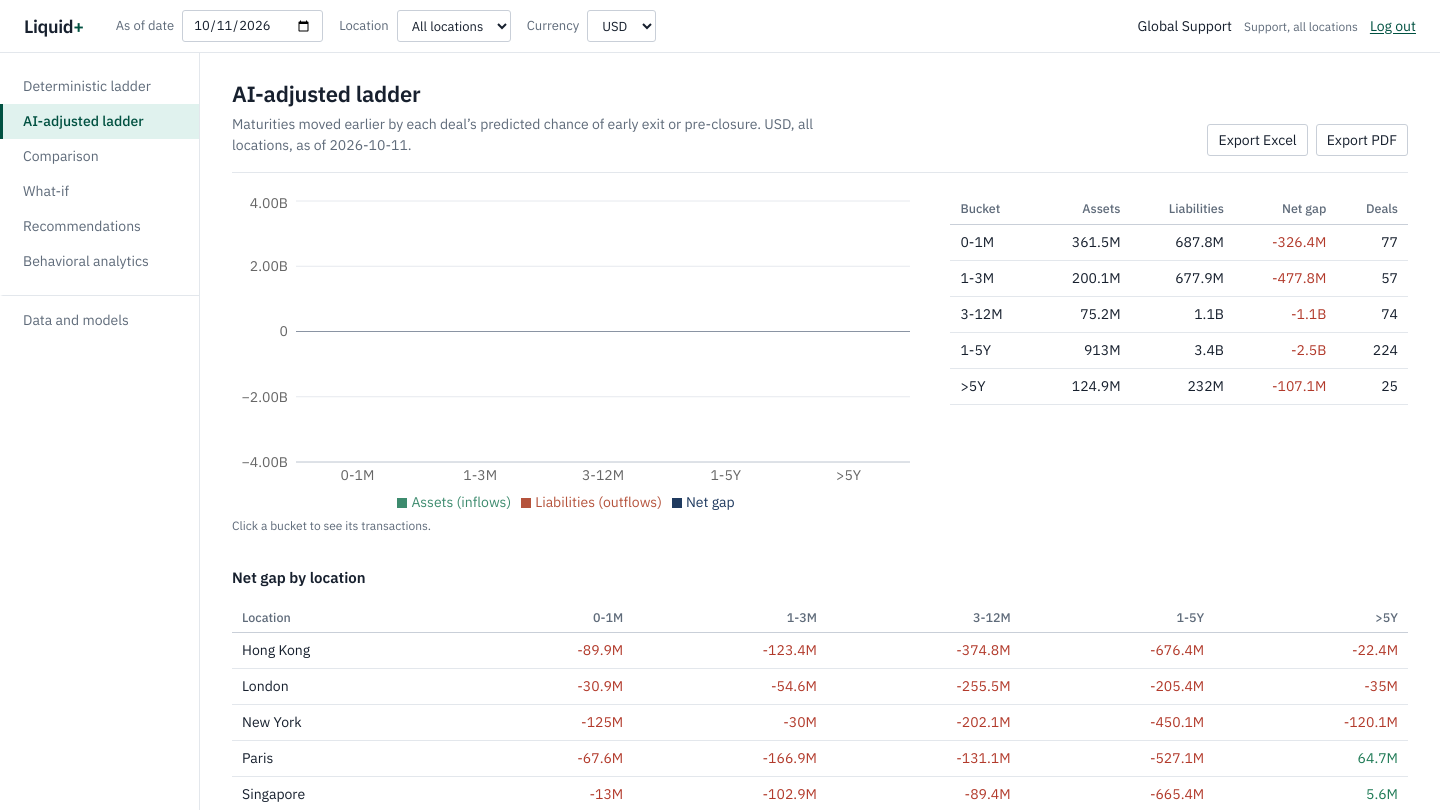
it: AI ladder opens the prediction rationale panel
The width and height of the screenshot is (1440, 810).
Click the row "1-5Y 913M 3.4B -2.5B 224". click: [1179, 350]
box: [950,332,1408,368]
(page scrolled)
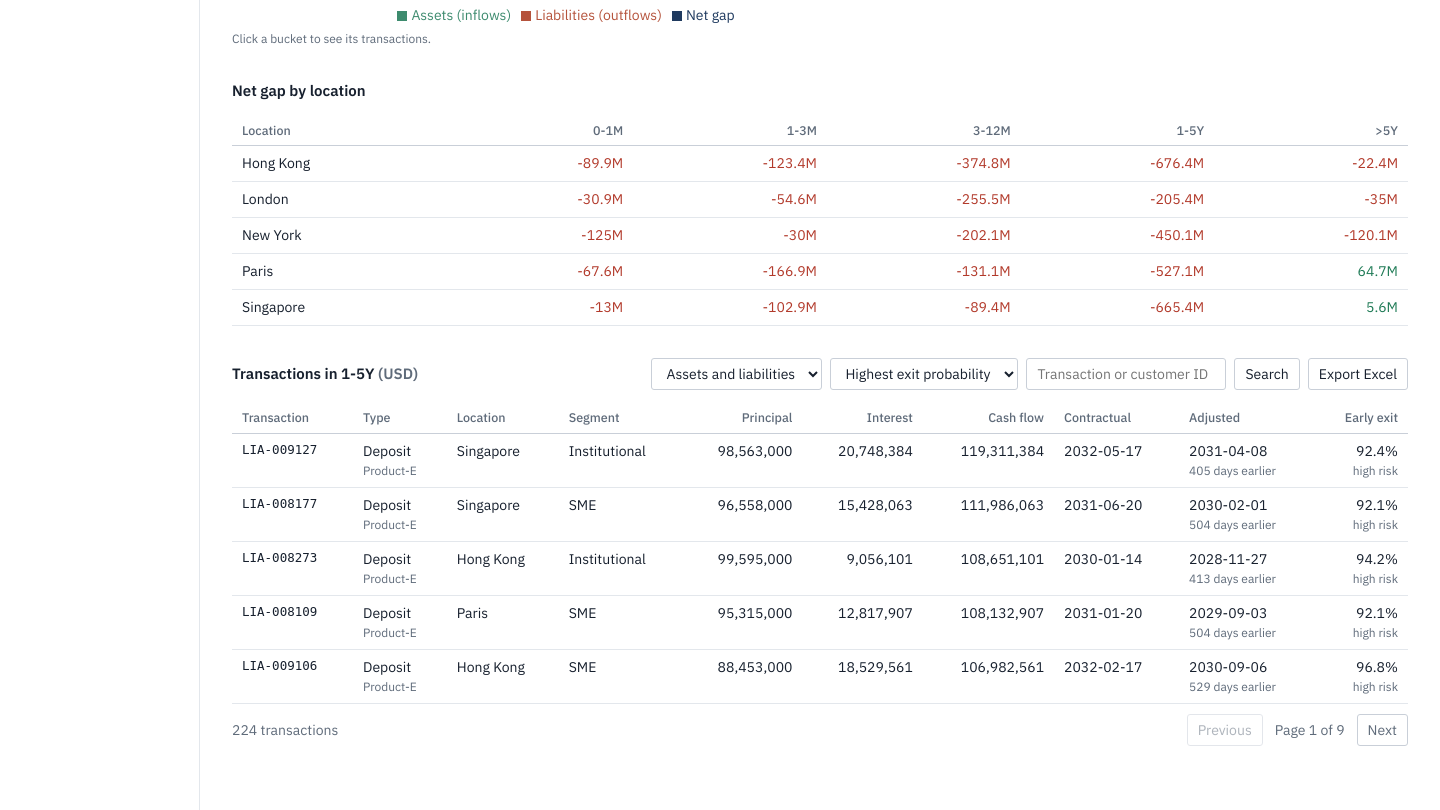
Click the text "LIA-009127". click: [292, 460]
box: [232,434,353,488]
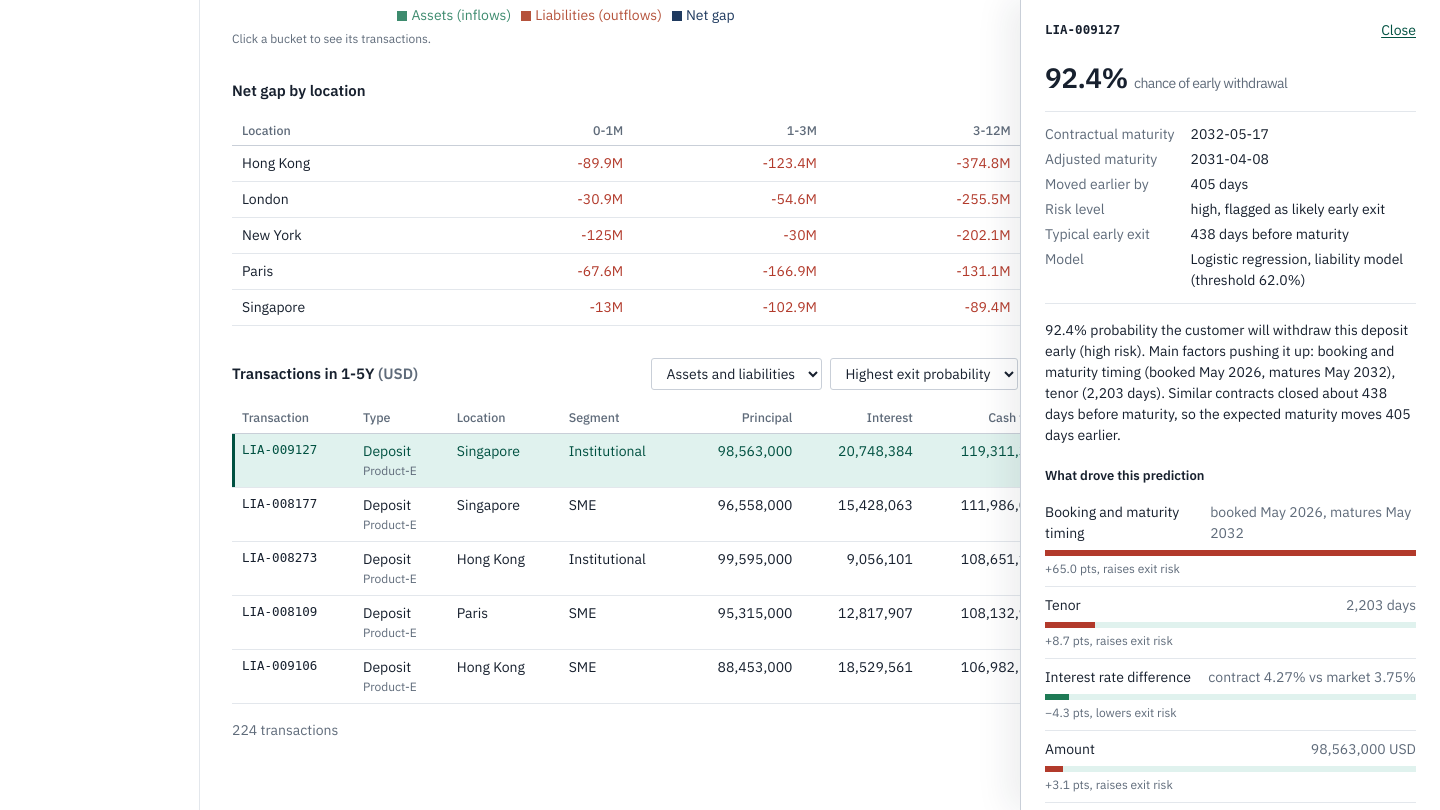
Expected: the heading "What drove this prediction" is shown, [1045,467,1204,484]
Expected: the text "Booking and maturity timing" is shown, [1045,502,1198,544]
